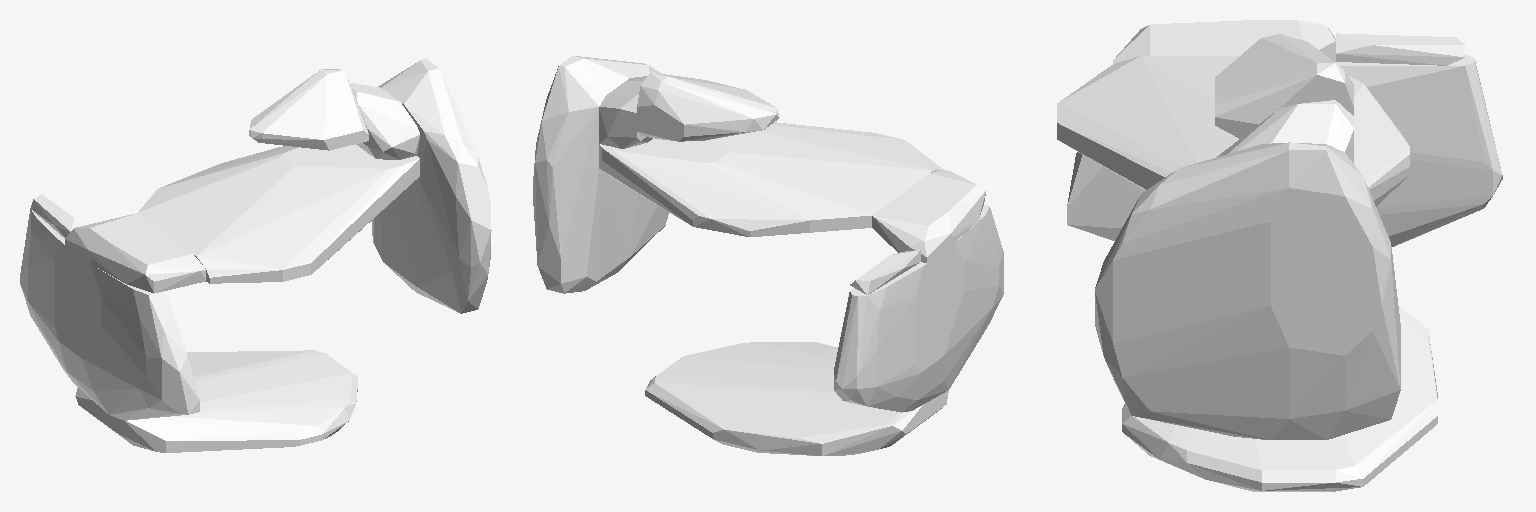
The robot description file, URDF, robot "five.urdf":
<?xml version="1.0" ?>
<robot name="five.urdf">
  <link name="baseLink">
    <inertial>
      <origin rpy="0 0 0" xyz="0 0 0"/>
       <mass value="0.0"/>
       <inertia ixx="0" ixy="0" ixz="0" iyy="0" iyz="0" izz="0"/>
    </inertial>
    <visual>
      <origin rpy="0 0 0" xyz="0 0 0"/>
      <geometry>
        <mesh filename="five.obj" scale="1.0 1.0 1.0"/>
      </geometry>
      <material name="white">
       <color rgba="1 1 1 1"/>
     </material>
    </visual>
    <collision>
      <origin rpy="0 0 0" xyz="0 0 0"/>
      <geometry>
        <mesh filename="five.obj" scale="1.0 1.0 1.0"/>
        <!-- You could also specify the collision (for the five) with a "box" tag: -->
        <!-- <box size=".06 .06 .06"/> -->
      </geometry>
    </collision>
  </link>
</robot>
        

--- Render facts (derived) ---
3 views of the same robot in one strip: view 1: azimuth 30°, elevation 25°; view 2: azimuth 150°, elevation 25°; view 3: azimuth 270°, elevation 25° (orthographic).
Robot: five.urdf — 1 links, 0 joints (none); root link baseLink; default pose: all joints at 0.
Links seen in each view (by area): view 1: baseLink; view 2: baseLink; view 3: baseLink.
Boxes of the visible links, x1,y1,x2,y2 form: baseLink: (20, 59, 491, 452); baseLink: (533, 56, 1003, 455); baseLink: (1057, 20, 1502, 491).
Size in the robot's own frame: 0.1507 by 0.113 by 0.1224 metres.
Meshes: 1 distinct files referenced, 1 mesh visuals loaded (1 OBJ).